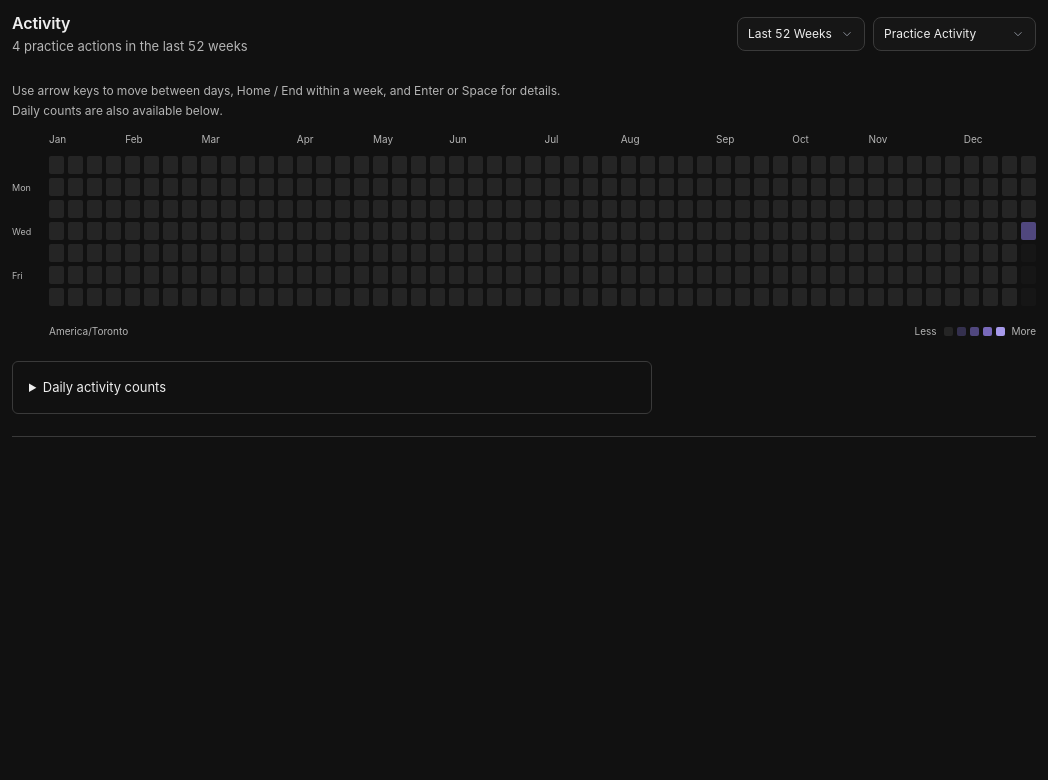
Test: starts with 52 weeks and provides daily numbers without relying on color
Expected: the text "4 practice actions in the last 52 weeks" is shown, [12,37,248,57]
Step 1. Click the heading "Daily activity counts" → x=104, y=388, box [43,380,166,396]
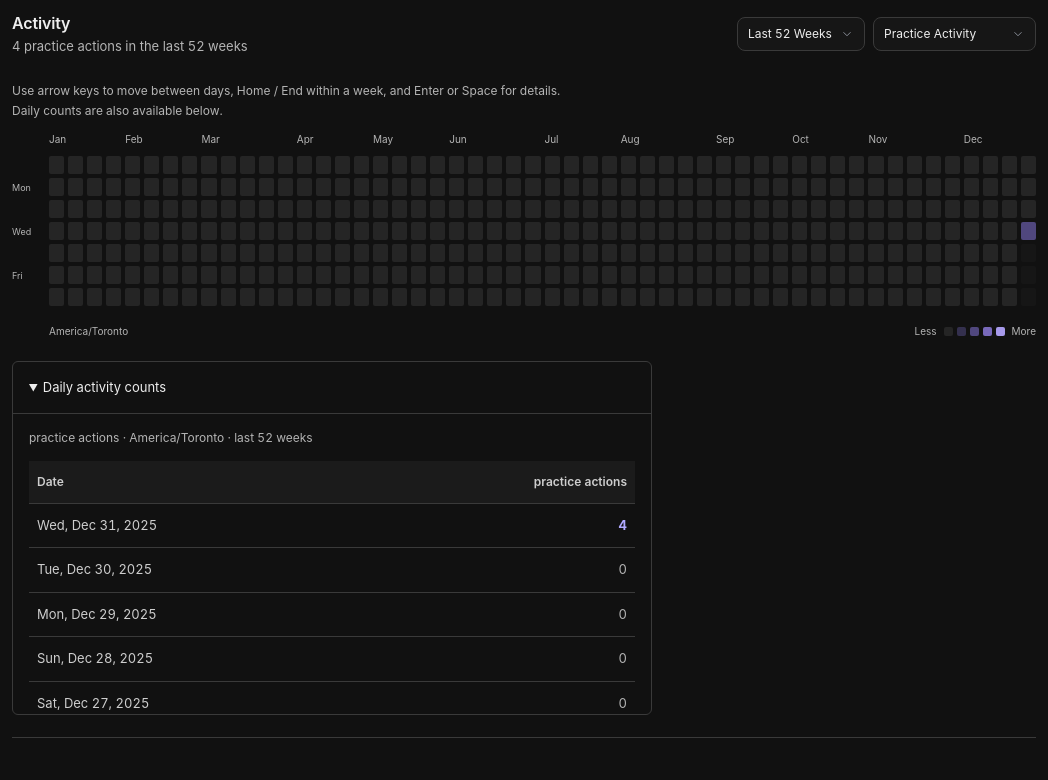
Expected: the element named "Daily activity counts" is shown, [13,414,651,714]
Expected: the row "Wed, Dec 31, 2025 4" is shown, [29,503,635,548]
